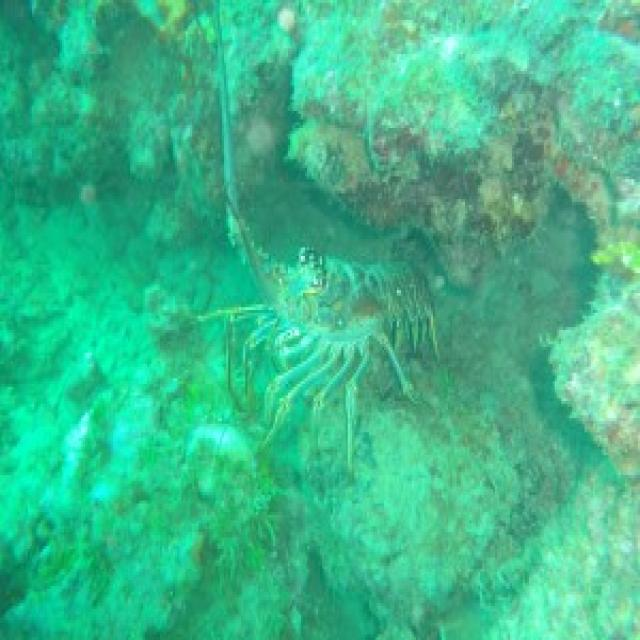lobsters: (201, 190, 540, 518)
